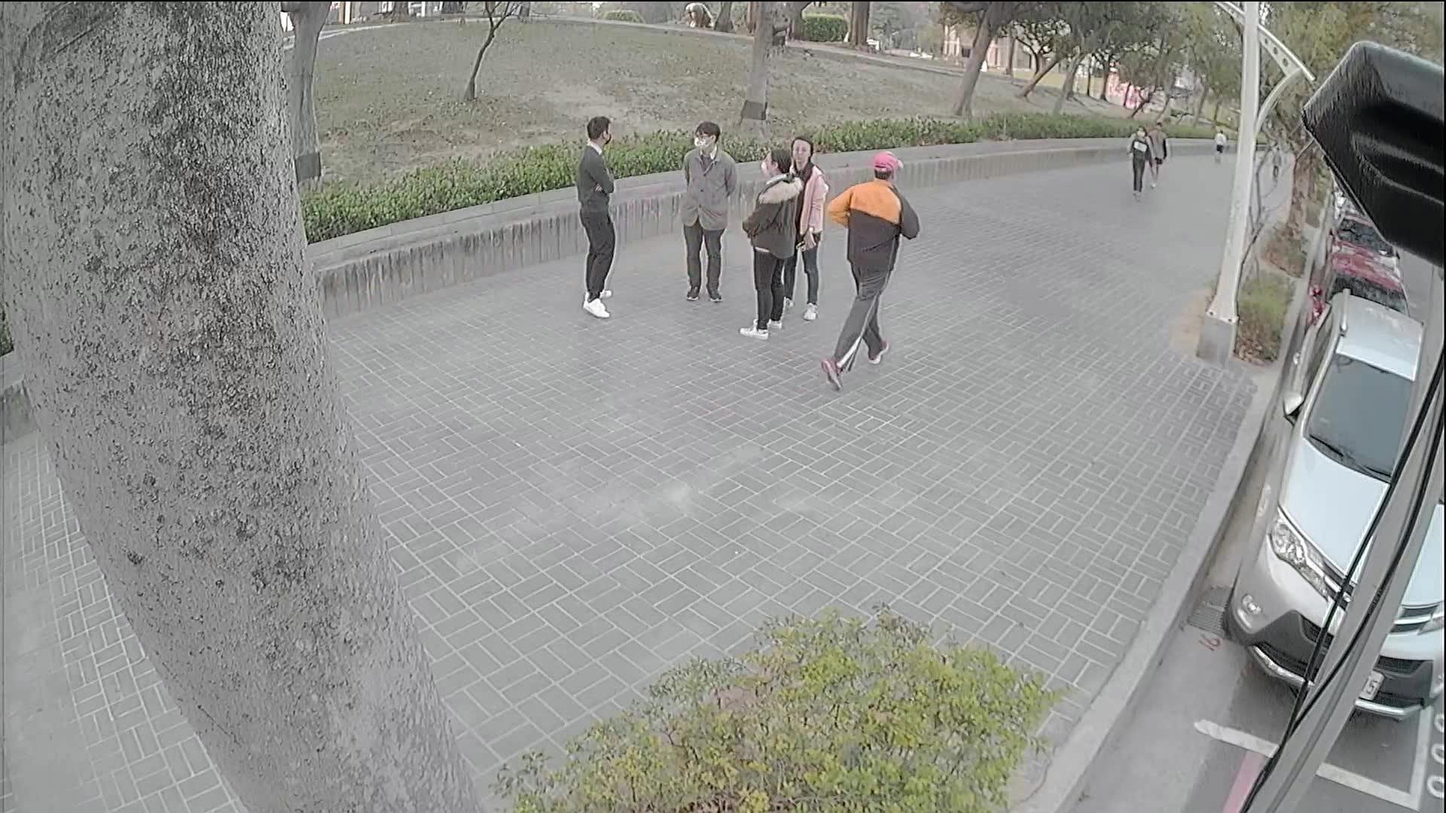person: (809, 140, 926, 394), (731, 141, 809, 343), (679, 124, 735, 300), (783, 126, 831, 319), (575, 114, 619, 318), (1122, 117, 1158, 195), (1143, 121, 1167, 178)
